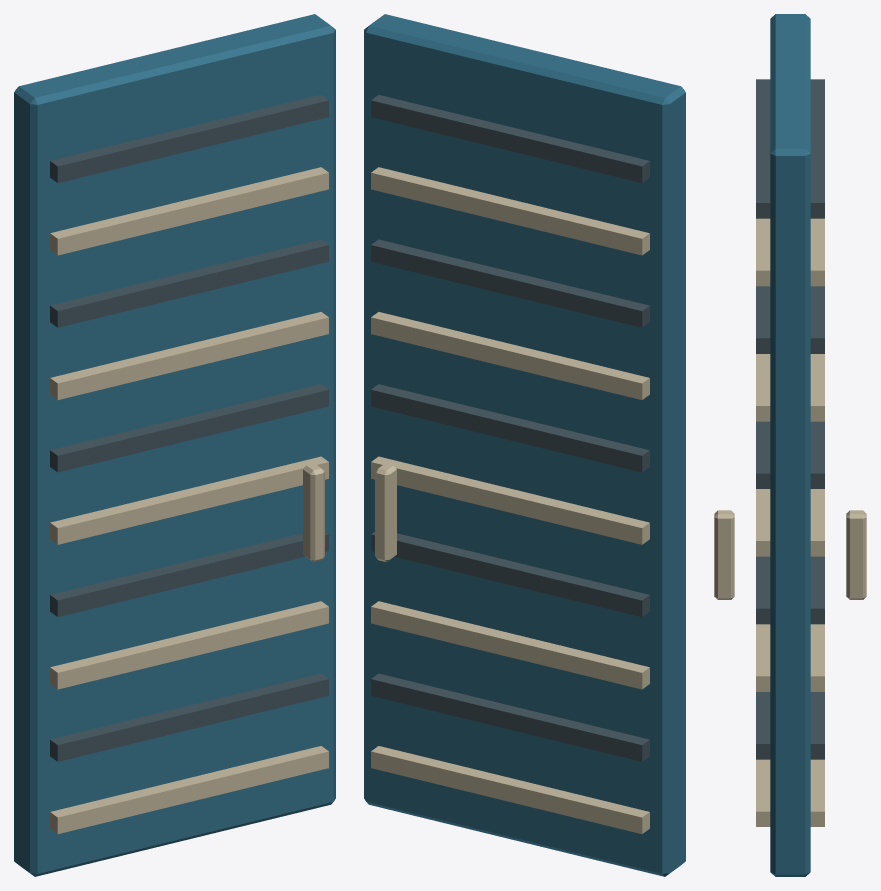
The model's file is door_maintenance_louver.glb.
The picture shows the model from 3 angles, left to right: view 1: azimuth 30°, elevation 25°; view 2: azimuth 150°, elevation 25°; view 3: azimuth 270°, elevation 25°; orthographic projection. The views are drawn at different scales.
Visible parts, largest first — view 1: door_maintenance_louver; view 2: door_maintenance_louver; view 3: door_maintenance_louver.
Part boxes in pixels (<box>): door_maintenance_louver: <box>14,14,335,876</box>; door_maintenance_louver: <box>364,14,685,876</box>; door_maintenance_louver: <box>714,14,866,876</box>.
Bounding box in the file's own units: 1.15 × 2.8 × 0.53.
